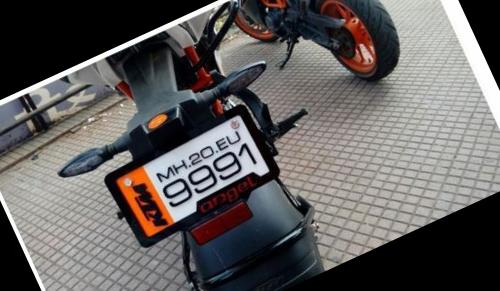plate: (102, 116, 276, 248)
